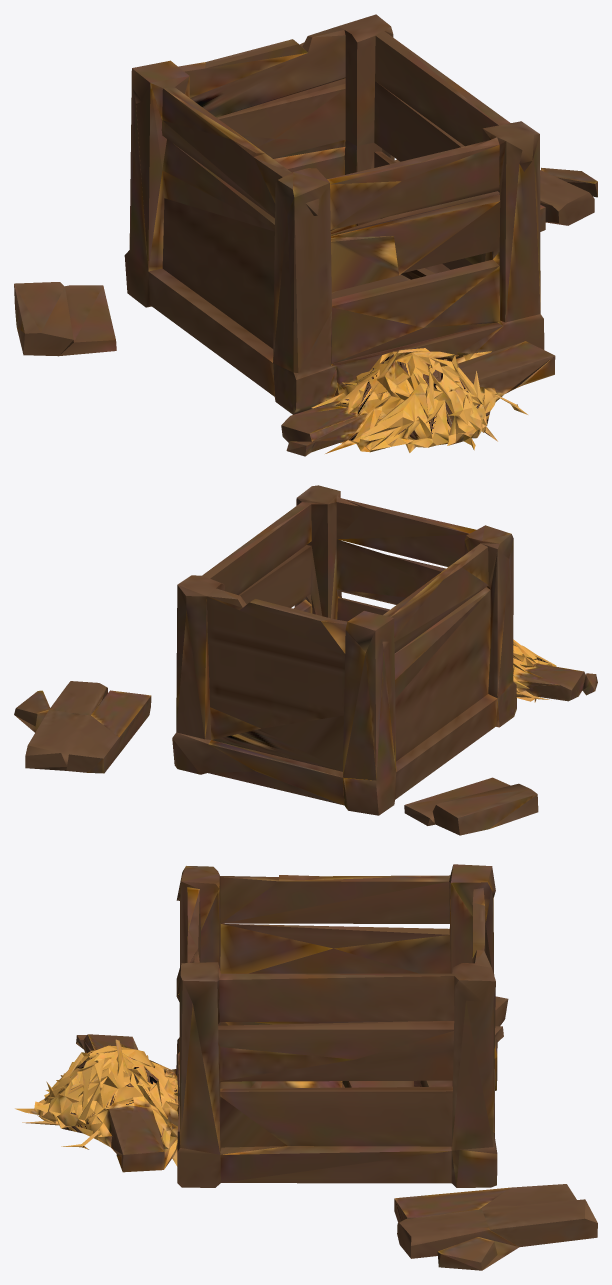
Rendered from crate-broken.low.glb.
3 views of the same model, one above another, from view 1: azimuth 30°, elevation 25°; view 2: azimuth 150°, elevation 25°; view 3: azimuth 270°, elevation 25° (orthographic). The views are drawn at different scales.
Visible parts, largest first — view 1: output_unwrapped; view 2: output_unwrapped; view 3: output_unwrapped.
Part boxes in pixels (x1,y1,x2,y2): output_unwrapped: (14,14,597,456); output_unwrapped: (14,485,597,835); output_unwrapped: (15,864,597,1270).
Bounding box in the file's own units: 1.9 × 0.6849 × 1.71.
Materials: 1 (1 with a texture image).
